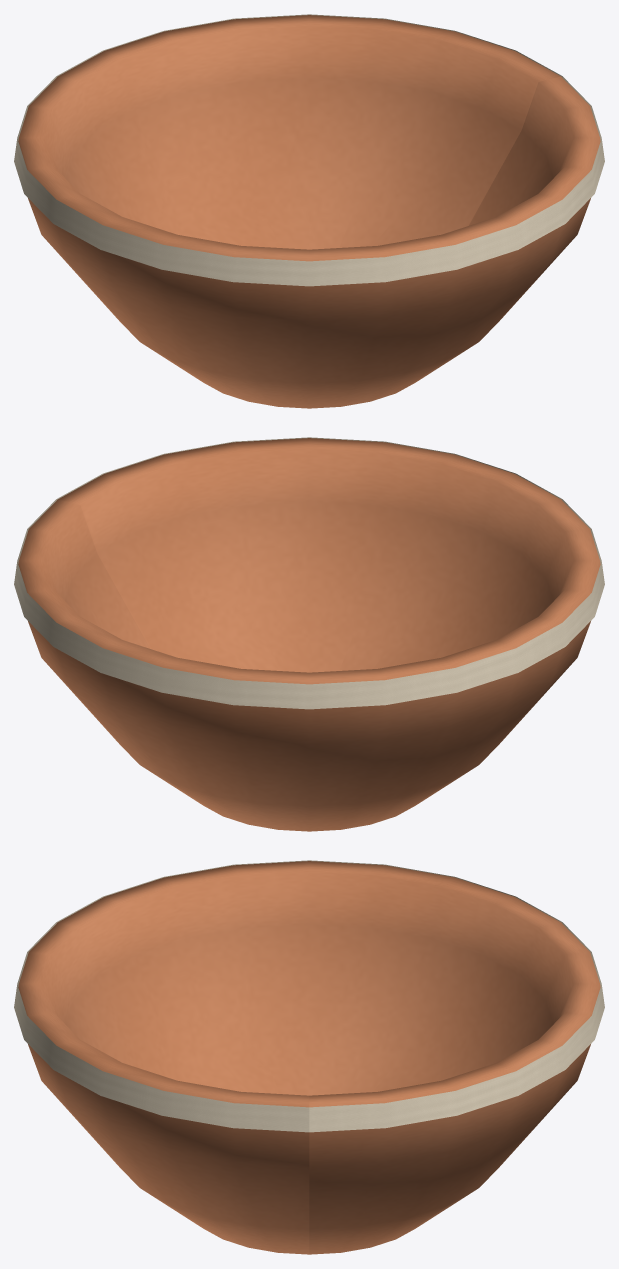
Rendered from 20-schale.glb.
3 renders of one model, top to bottom at view 1: azimuth 30°, elevation 25°; view 2: azimuth 150°, elevation 25°; view 3: azimuth 270°, elevation 25°, orthographic.
Parts seen in each view (by area): view 1: Small bowl, Cream bowl rim; view 2: Small bowl, Cream bowl rim; view 3: Small bowl, Cream bowl rim.
Boxes of the visible parts, bbox=[...] form: Small bowl: bbox=[18, 15, 600, 408]; Cream bowl rim: bbox=[14, 14, 604, 286]; Small bowl: bbox=[18, 438, 600, 831]; Cream bowl rim: bbox=[14, 437, 604, 709]; Small bowl: bbox=[18, 861, 600, 1254]; Cream bowl rim: bbox=[14, 860, 604, 1132].
Size of the model in its own units: 0.362 by 0.148 by 0.362.
Materials: 2 (2 with a texture image).
